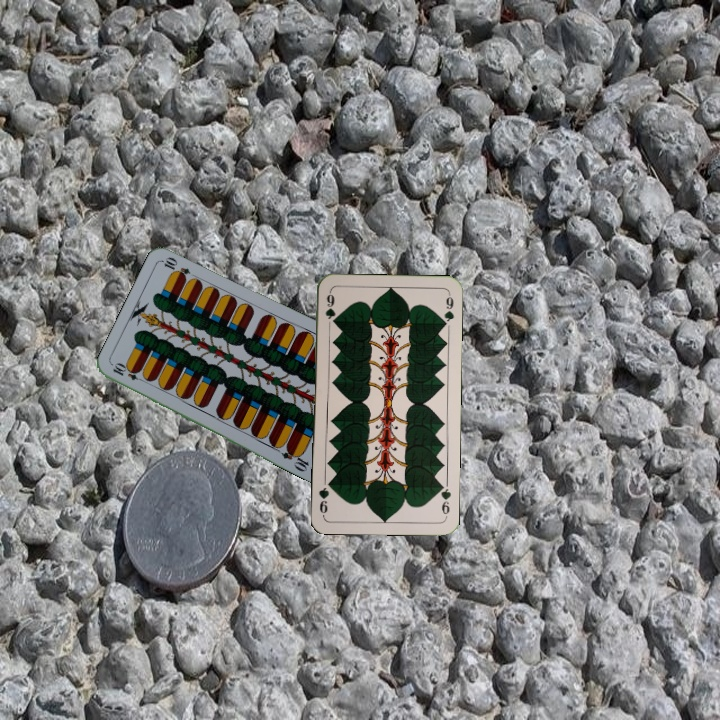E10: (109, 360, 148, 385)
G9: (435, 479, 454, 519), (322, 289, 337, 329)
